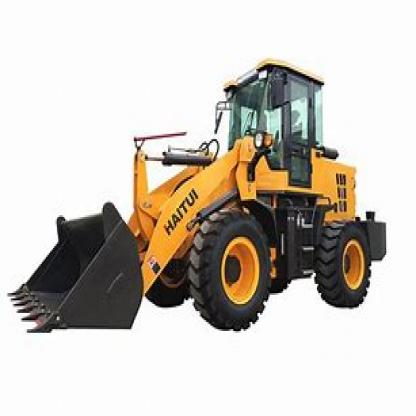bull_dozer/loader/grader: (5, 52, 389, 338)
